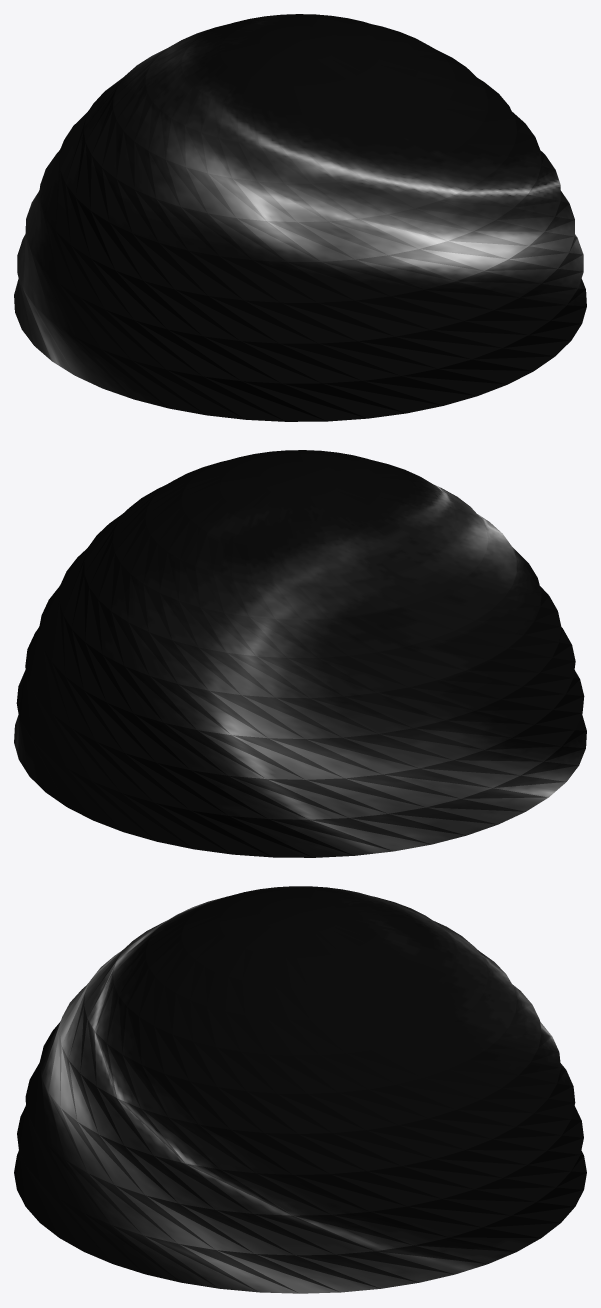
Rendered from 0211_banluoxuan.glb.
3 views of the same model, one above another, from view 1: azimuth 30°, elevation 25°; view 2: azimuth 150°, elevation 25°; view 3: azimuth 270°, elevation 25° (orthographic).
Bounding box in the file's own units: 2.2 × 1.1 × 2.2.
Materials: 1 (1 with a texture image).
